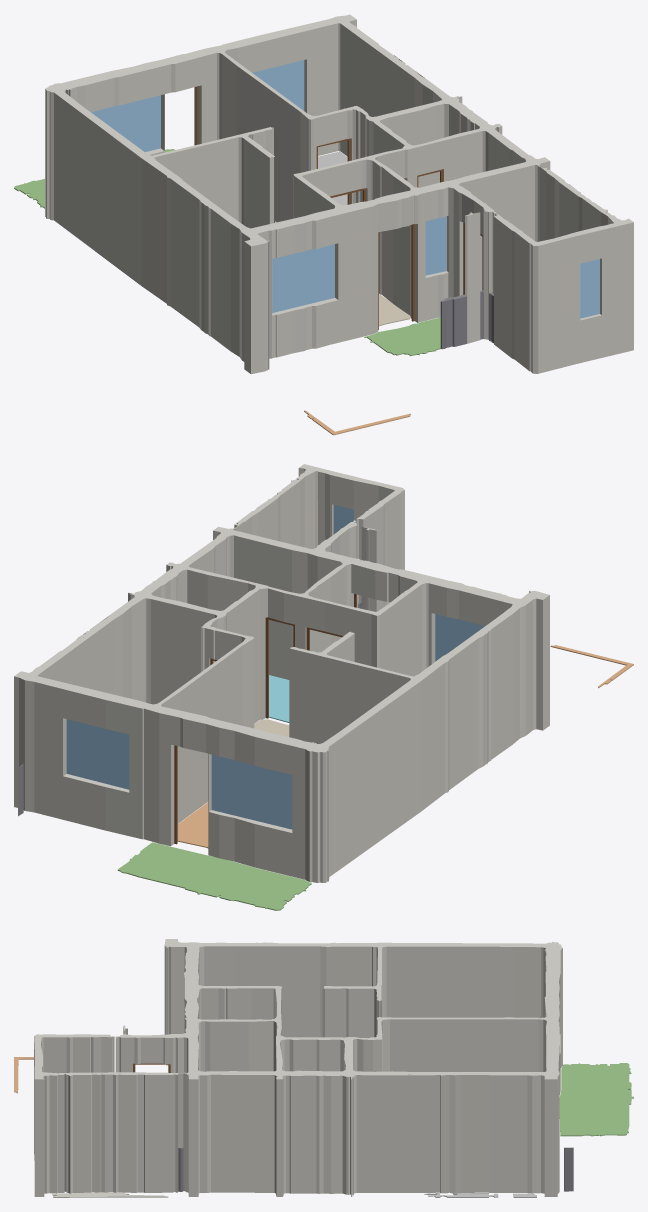
3 views of the same model, one above another, from view 1: azimuth 30°, elevation 25°; view 2: azimuth 150°, elevation 25°; view 3: azimuth 270°, elevation 25° (orthographic). The views are drawn at different scales.
Visible parts, largest first — view 1: walls, window_9, window_7, floor_0_Outdoor, railings, window_8, window_10, window_11; view 2: walls, floor_4_Outdoor, window_7, window_8, window_9, floor_7_Living_Room, floor_11_Bath; view 3: walls, floor_4_Outdoor, railings, floor_15_Undefined.
Part boxes in pixels (<box>): walls: <box>45,14,633,374</box>; window_9: <box>272,244,334,312</box>; window_7: <box>91,95,160,151</box>; floor_0_Outdoor: <box>364,317,440,356</box>; railings: <box>440,290,493,349</box>; window_8: <box>252,60,304,110</box>; window_10: <box>425,216,446,275</box>; window_11: <box>580,259,599,318</box>; walls: <box>14,464,549,882</box>; floor_4_Outdoor: <box>117,842,311,910</box>; window_7: <box>211,754,292,829</box>; window_8: <box>66,719,129,789</box>; window_9: <box>435,614,484,661</box>; floor_7_Living_Room: <box>178,802,208,848</box>; floor_11_Bath: <box>269,675,289,722</box>; walls: <box>34,939,562,1196</box>; floor_4_Outdoor: <box>559,1063,633,1136</box>; railings: <box>178,1147,573,1191</box>; floor_15_Undefined: <box>52,1192,168,1197</box>.
Size of the model in its own units: 6.89 by 2.72 by 12.88.
